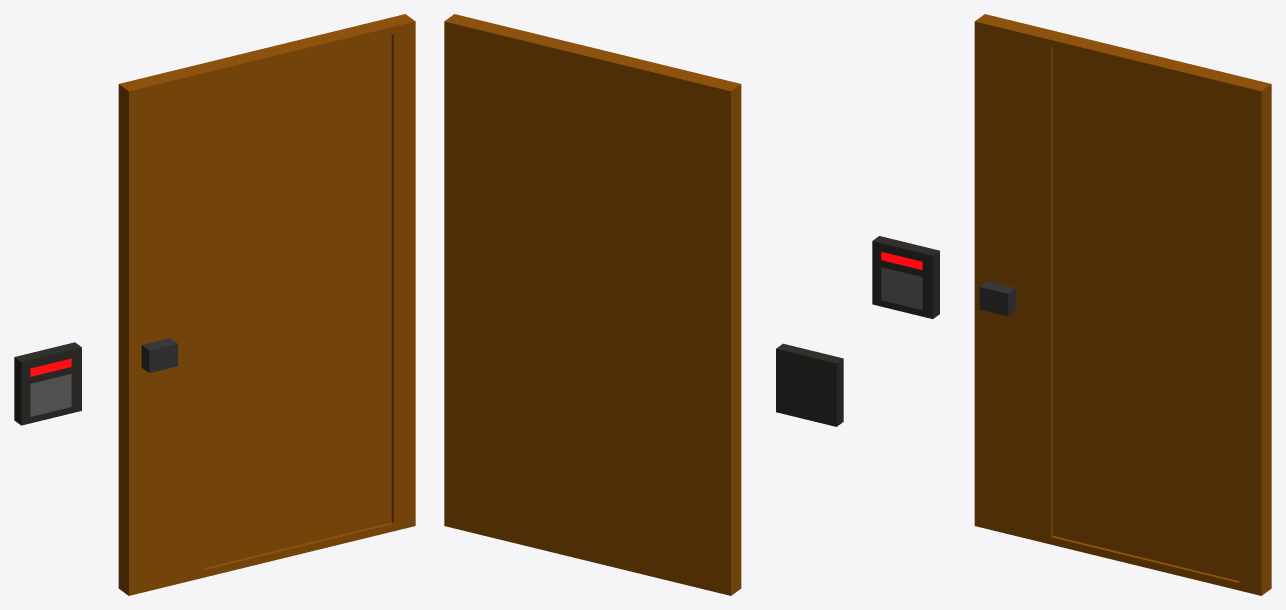
The model's file is door.fbx.
3 views of the same model, side by side, from view 1: azimuth 30°, elevation 25°; view 2: azimuth 150°, elevation 25°; view 3: azimuth 330°, elevation 25° (orthographic).
Parts seen in each view (by area): view 1: Cube, Cube.001; view 2: Cube, Cube.001; view 3: Cube, Cube.001.
Part boxes in pixels (bbox=[...]): Cube: bbox=[118, 14, 415, 595]; Cube.001: bbox=[14, 342, 81, 425]; Cube: bbox=[444, 14, 741, 595]; Cube.001: bbox=[776, 343, 843, 426]; Cube: bbox=[974, 14, 1271, 595]; Cube.001: bbox=[872, 236, 939, 318].
Size of the model in its own units: 158 by 195 by 12.62.
